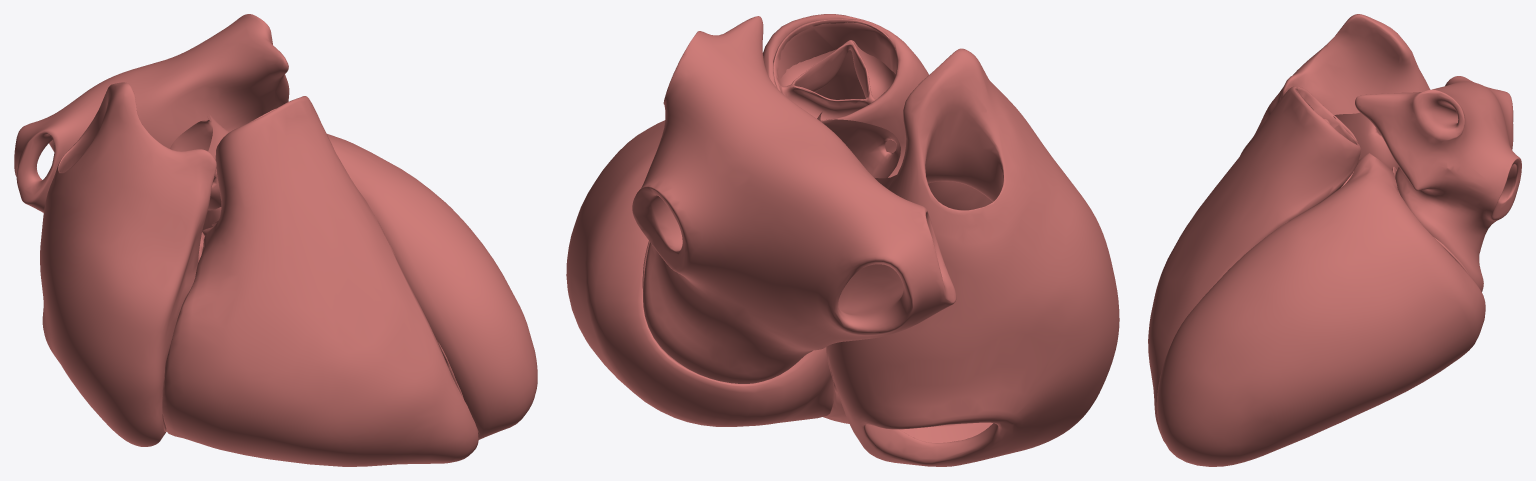
Rendered from heart.light.glb.
The picture shows the model from 3 angles, left to right: view 1: azimuth 30°, elevation 25°; view 2: azimuth 150°, elevation 25°; view 3: azimuth 270°, elevation 25°; orthographic projection. The views are drawn at different scales.
Parts seen in each view (by area): view 1: VH_M_heart_right_ventricle, VH_M_right_cardiac_atrium, VH_M_heart_left_ventricle, VH_M_left_cardiac_atrium, VH_M_aortic_valve; view 2: VH_M_left_cardiac_atrium, VH_M_right_cardiac_atrium, VH_M_heart_left_ventricle, VH_M_heart_right_ventricle, VH_M_pulmonary_valve, VH_M_aortic_valve; view 3: VH_M_heart_left_ventricle, VH_M_heart_right_ventricle, VH_M_left_cardiac_atrium, VH_M_right_cardiac_atrium, VH_M_aortic_valve.
Boxes of the visible parts, x1,y1,x2,y2 form: VH_M_heart_right_ventricle: (162, 96, 478, 466); VH_M_right_cardiac_atrium: (40, 82, 216, 446); VH_M_heart_left_ventricle: (202, 134, 537, 439); VH_M_left_cardiac_atrium: (14, 14, 289, 212); VH_M_aortic_valve: (170, 114, 229, 210); VH_M_left_cardiac_atrium: (632, 16, 956, 383); VH_M_right_cardiac_atrium: (826, 48, 1119, 466); VH_M_heart_left_ventricle: (566, 120, 833, 426); VH_M_heart_right_ventricle: (763, 14, 928, 423); VH_M_pulmonary_valve: (773, 19, 895, 119); VH_M_aortic_valve: (817, 112, 900, 188); VH_M_heart_left_ventricle: (1156, 153, 1485, 466); VH_M_heart_right_ventricle: (1148, 86, 1360, 442); VH_M_left_cardiac_atrium: (1355, 76, 1521, 291); VH_M_right_cardiac_atrium: (1240, 14, 1429, 155); VH_M_aortic_valve: (1334, 112, 1398, 169).
Bounding box in the file's own units: 0.1243 × 0.1054 × 0.1052.
